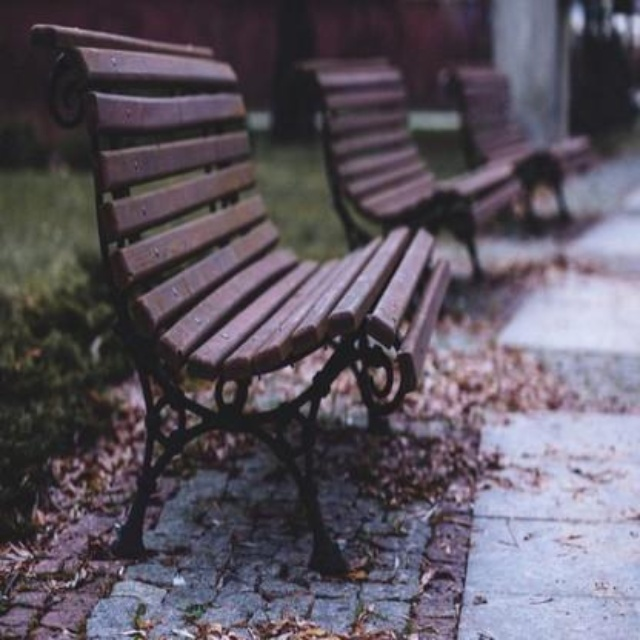obstacle: (20, 15, 434, 592), (452, 40, 614, 225)
